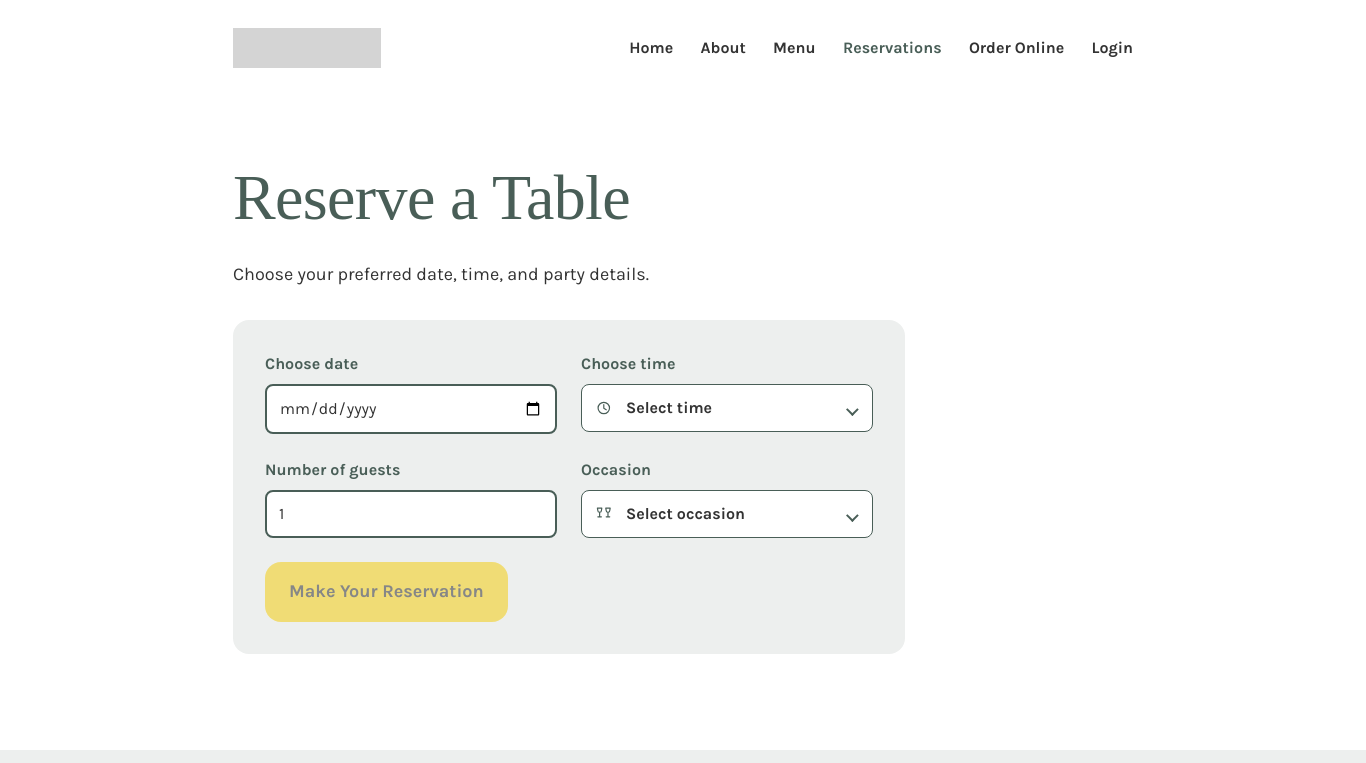
it: submits a booking and navigates to confirmation
In the date field labelled "Choose date": point(411, 409) [265,384,557,434], type "2026-09-04"
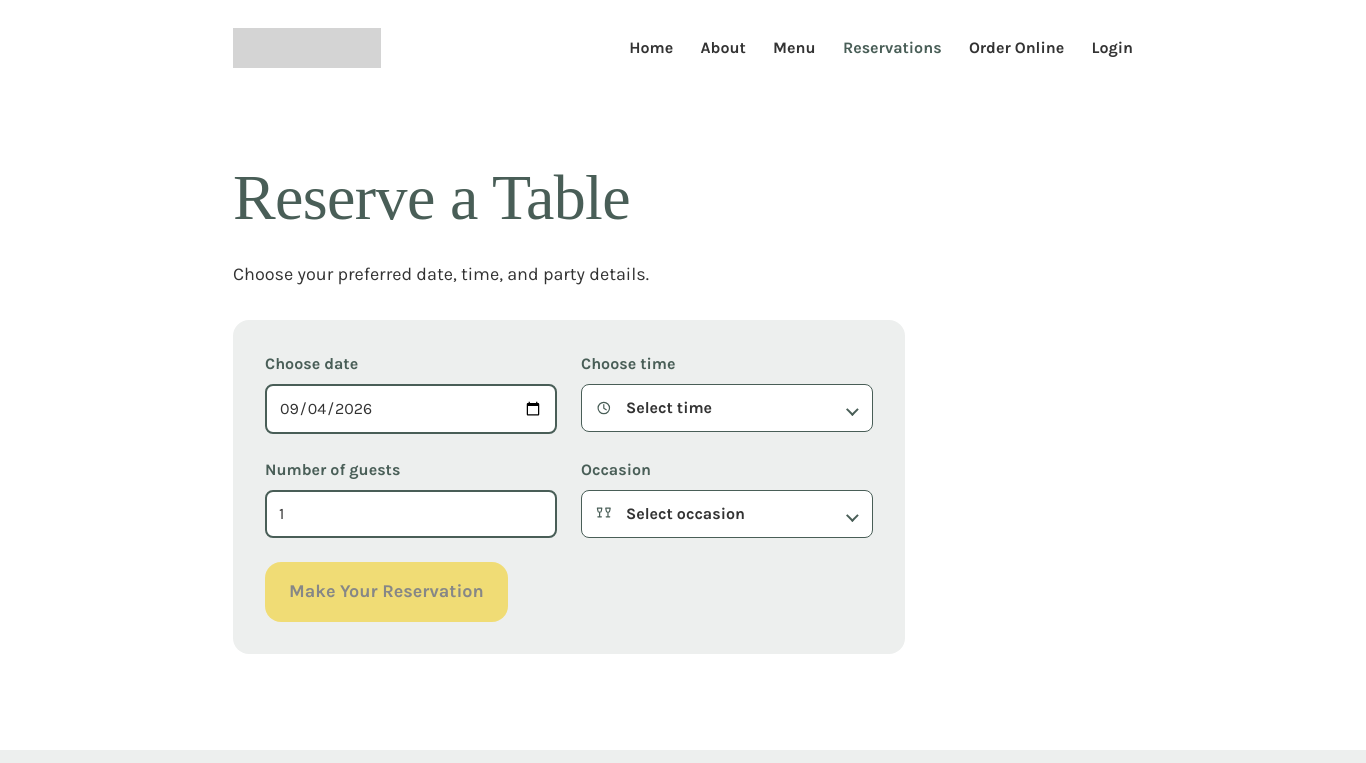
Select "18:00" in the dropdown labelled "Choose time": point(727, 408) [581,384,873,432]
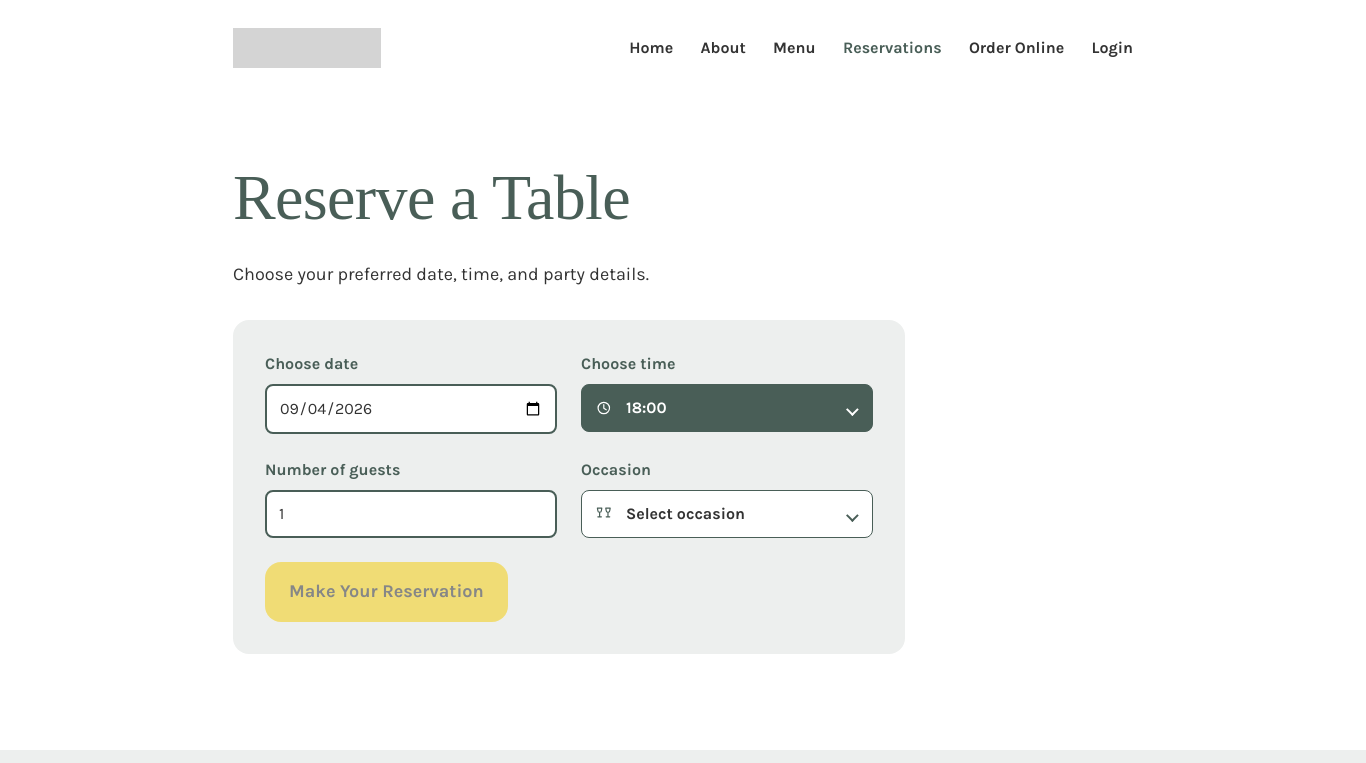
Replace the text in the number field labelled "Number of guests" with "3": point(411, 514) [265,490,557,538]
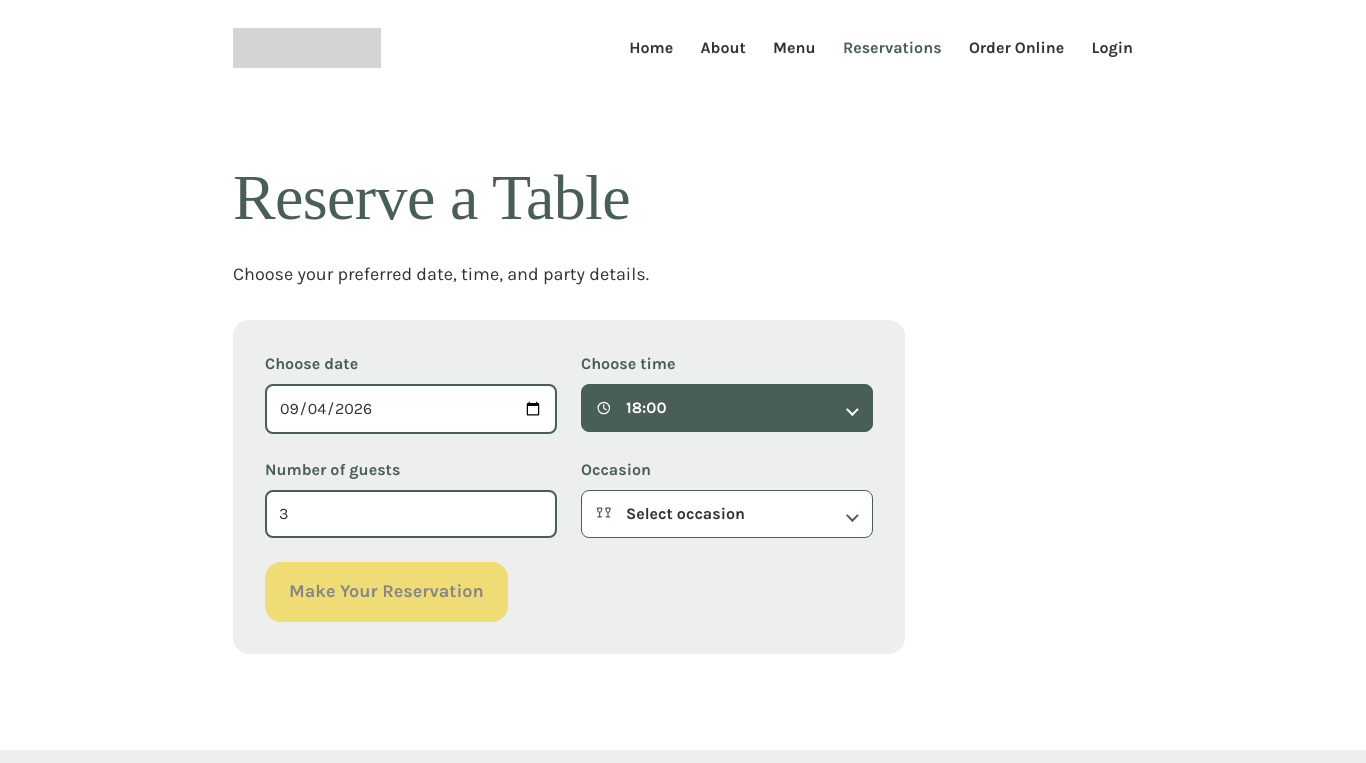
Select "Anniversary" in the dropdown labelled "Occasion": point(727, 514) [581,490,873,538]
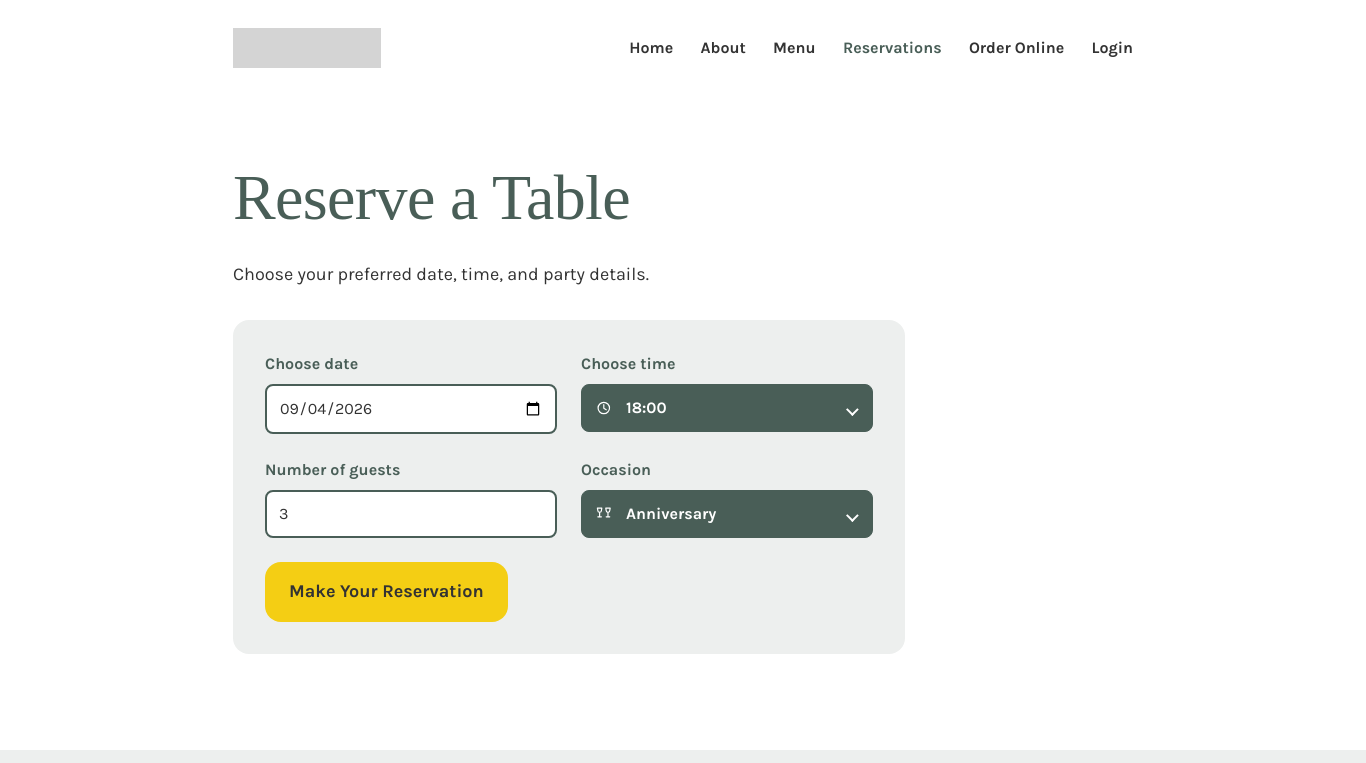
Submit the form "Make Your Reservation", box [233,320,905,654]
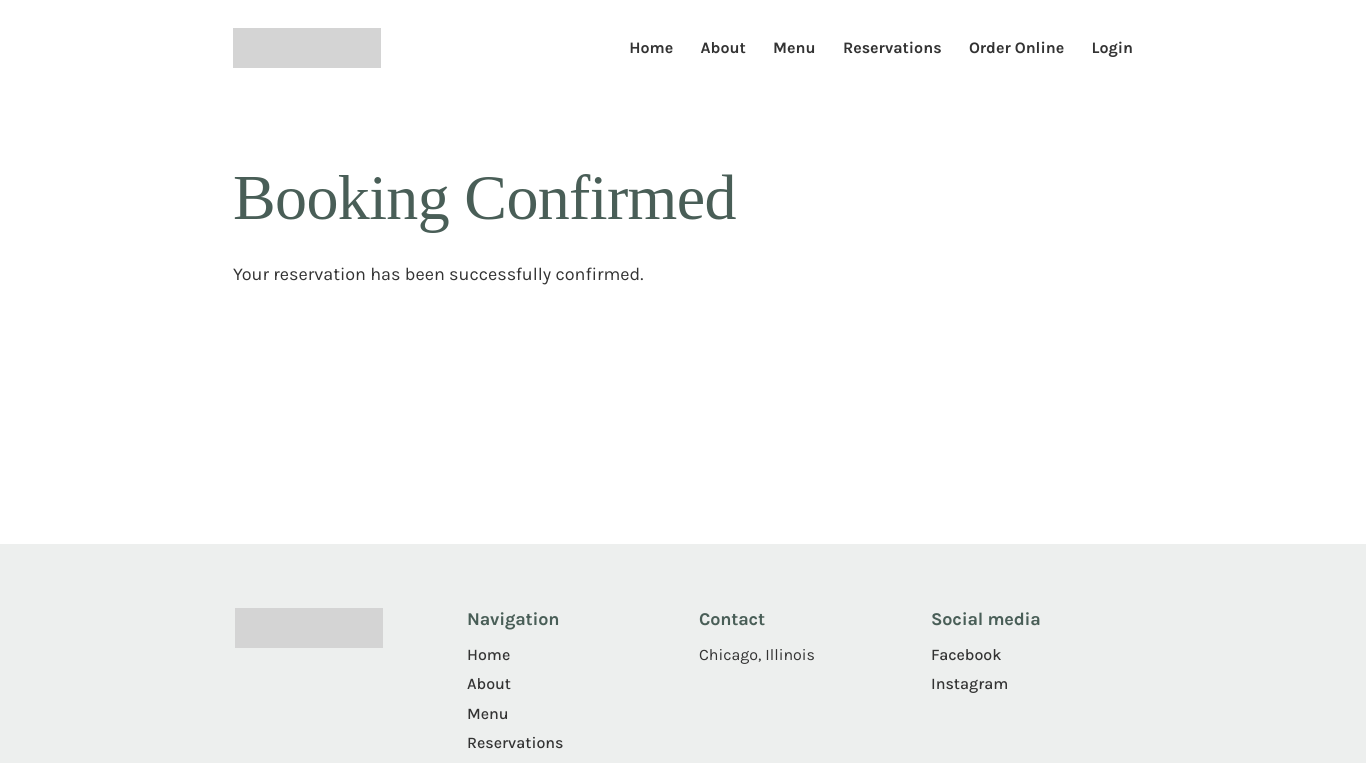
expect the heading "Booking Confirmed" is shown: met, box [233,162,736,233]
